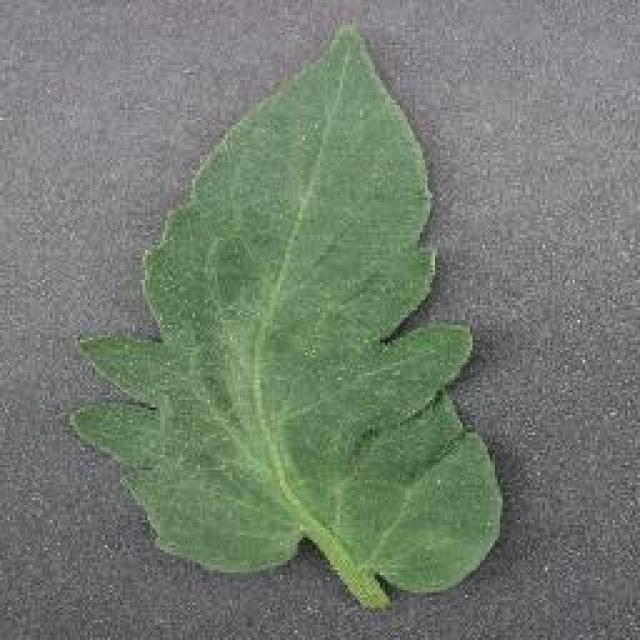Tomato_Healthy: (54, 23, 534, 604)
